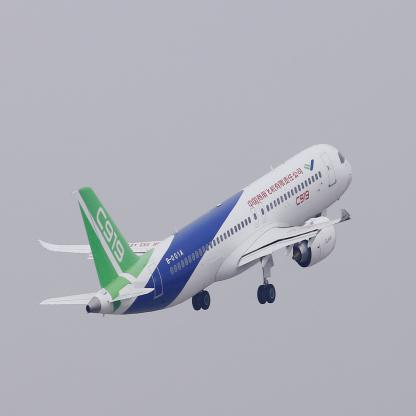CIV_Plane: (36, 138, 356, 333)
